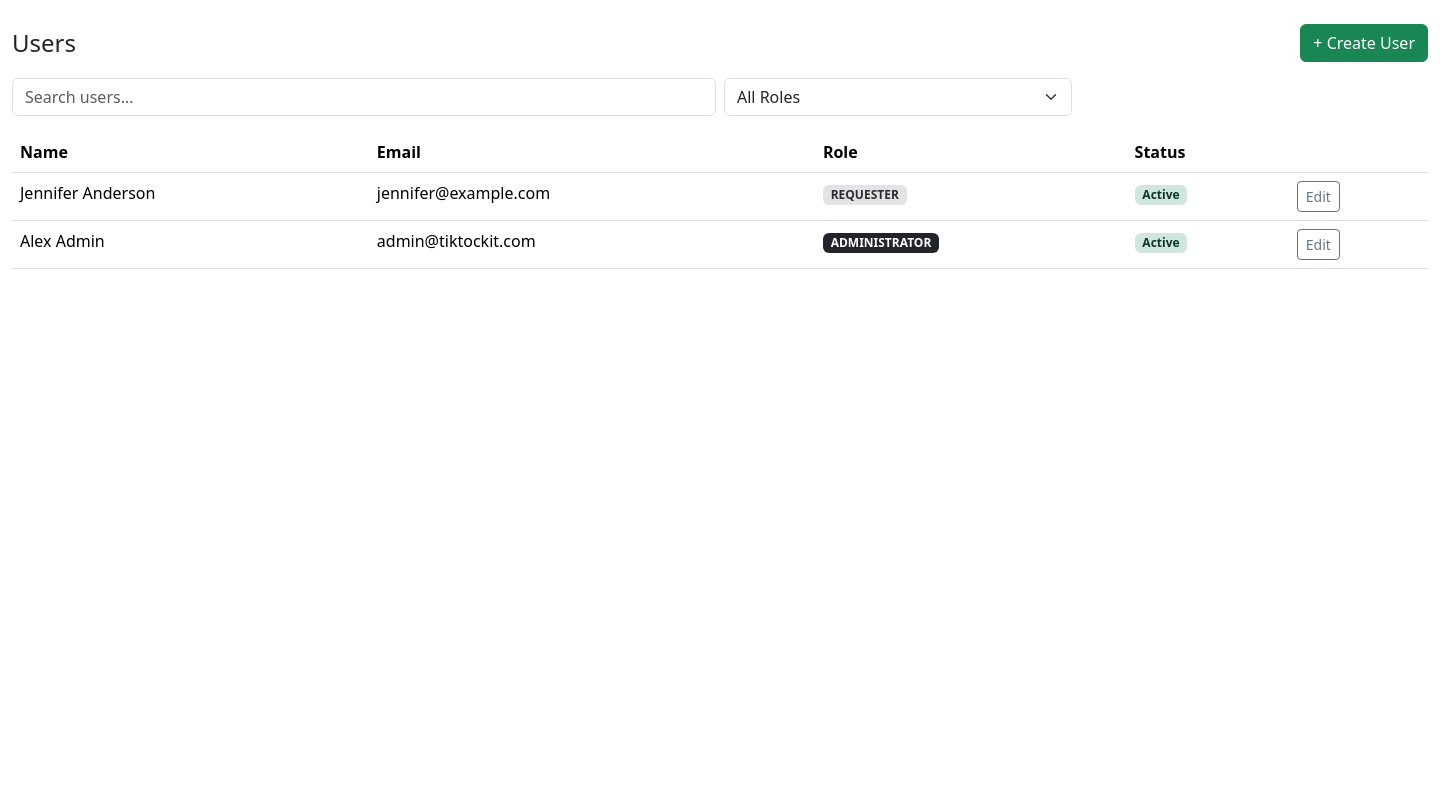
Scenario: AdminUsers › opens the Create User panel and disables Deactivate for the current admin when editing self
The image size is (1440, 810).
What coordinates should you click on to do the following:
click the button "+ Create User"
I would click on:
 (1364, 43)
Its box is [1300,24,1428,62].
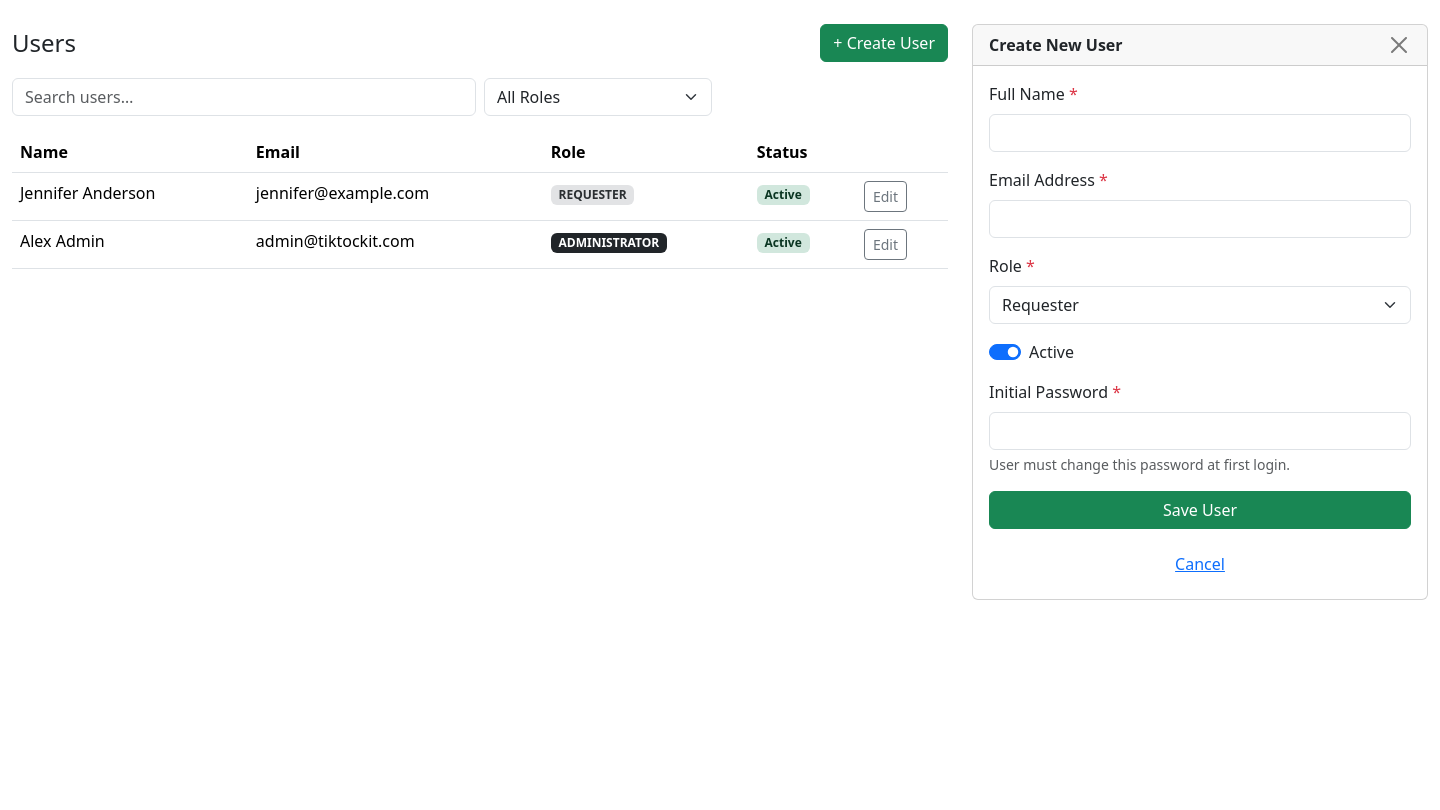
Now the text "Create New User" is shown, box [989,33,1123,57]
